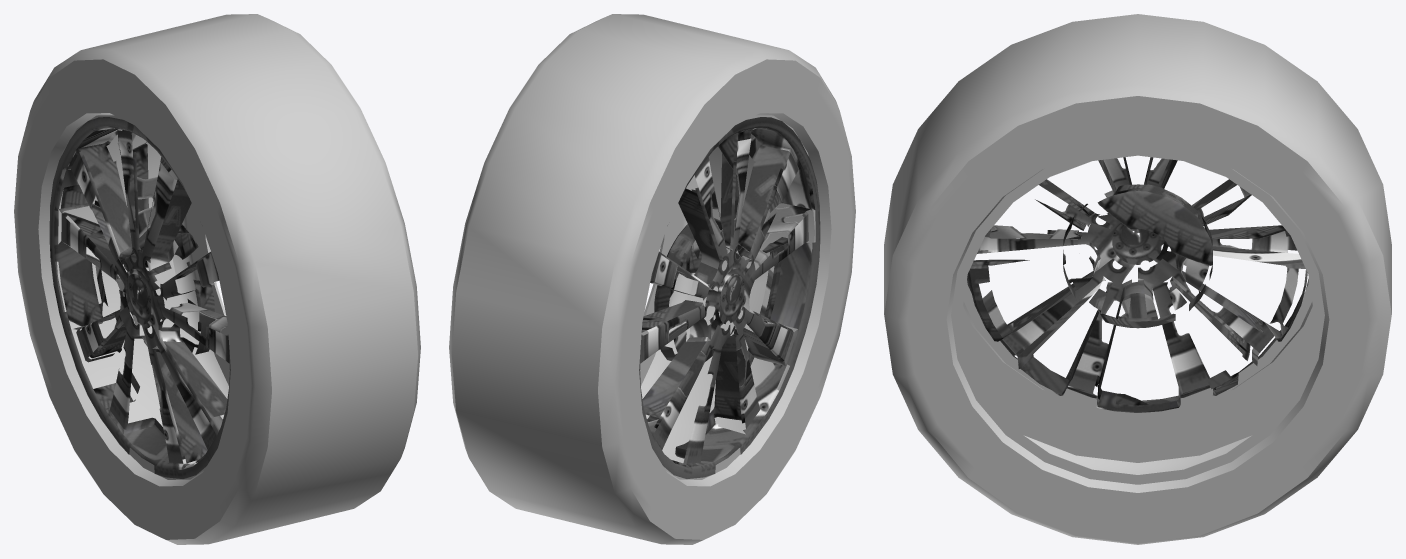
File: Llanta.obj
3 views of the same model, side by side, from view 1: azimuth 30°, elevation 25°; view 2: azimuth 150°, elevation 25°; view 3: azimuth 270°, elevation 25° (orthographic).
Parts seen in each view (by area): view 1: Llanta_tire-low, Llanta_MetalStainlessSteelBrushedElongated005_2K; view 2: Llanta_tire-low, Llanta_MetalStainlessSteelBrushedElongated005_2K; view 3: Llanta_tire-low, Llanta_MetalStainlessSteelBrushedElongated005_2K.
Boxes of the visible parts, <box> form: Llanta_tire-low: <box>14,14,420,544</box>; Llanta_MetalStainlessSteelBrushedElongated005_2K: <box>49,117,230,478</box>; Llanta_tire-low: <box>449,14,855,544</box>; Llanta_MetalStainlessSteelBrushedElongated005_2K: <box>639,117,820,478</box>; Llanta_tire-low: <box>884,14,1391,544</box>; Llanta_MetalStainlessSteelBrushedElongated005_2K: <box>967,157,1308,412</box>.
Bounding box in the file's own units: 0.2575 × 0.6874 × 0.6874.
